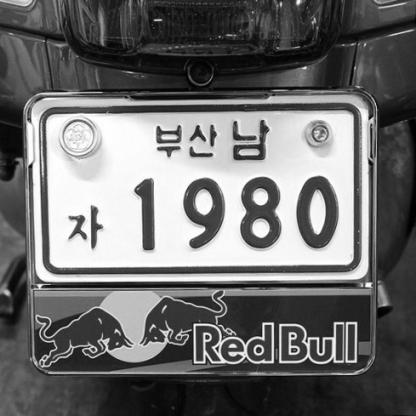bnum: (20, 89, 378, 285)
